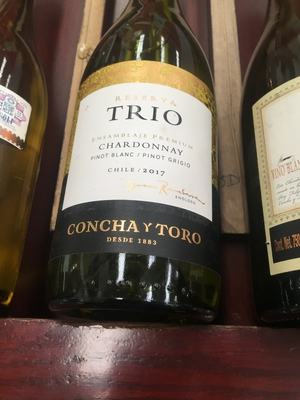trio chardonnay: (61, 16, 226, 337)
